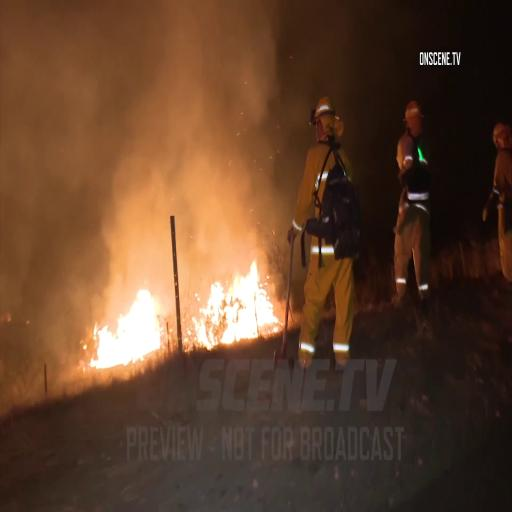fire: (194, 262, 290, 348), (92, 296, 165, 366)
